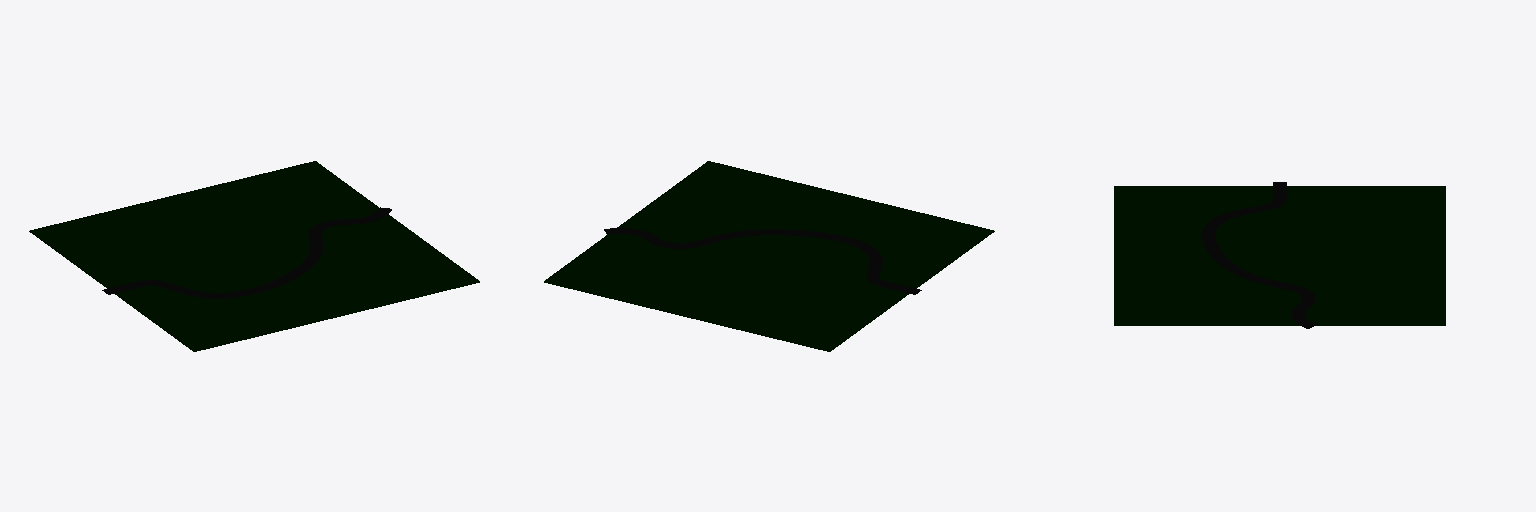
Rendered from path.obj.
3 renders of one model, left to right at view 1: azimuth 30°, elevation 25°; view 2: azimuth 150°, elevation 25°; view 3: azimuth 270°, elevation 25°, orthographic.
Parts seen in each view (by area): view 1: Ground_Plane.002, Road_Plane.003; view 2: Ground_Plane.002, Road_Plane.003; view 3: Ground_Plane.002, Road_Plane.003.
Part boxes in pixels (bbox=[...]): Ground_Plane.002: bbox=[29, 161, 479, 351]; Road_Plane.003: bbox=[102, 207, 391, 298]; Ground_Plane.002: bbox=[544, 161, 994, 351]; Road_Plane.003: bbox=[604, 228, 921, 294]; Ground_Plane.002: bbox=[1114, 186, 1445, 325]; Road_Plane.003: bbox=[1202, 182, 1316, 328].
Bounding box in the file's own units: 25.21 × 0.04 × 24.